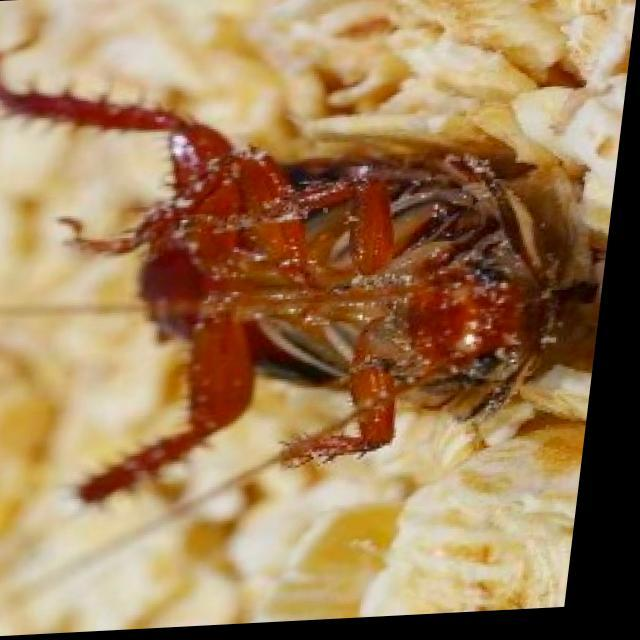cockroach: (4, 79, 588, 509)
